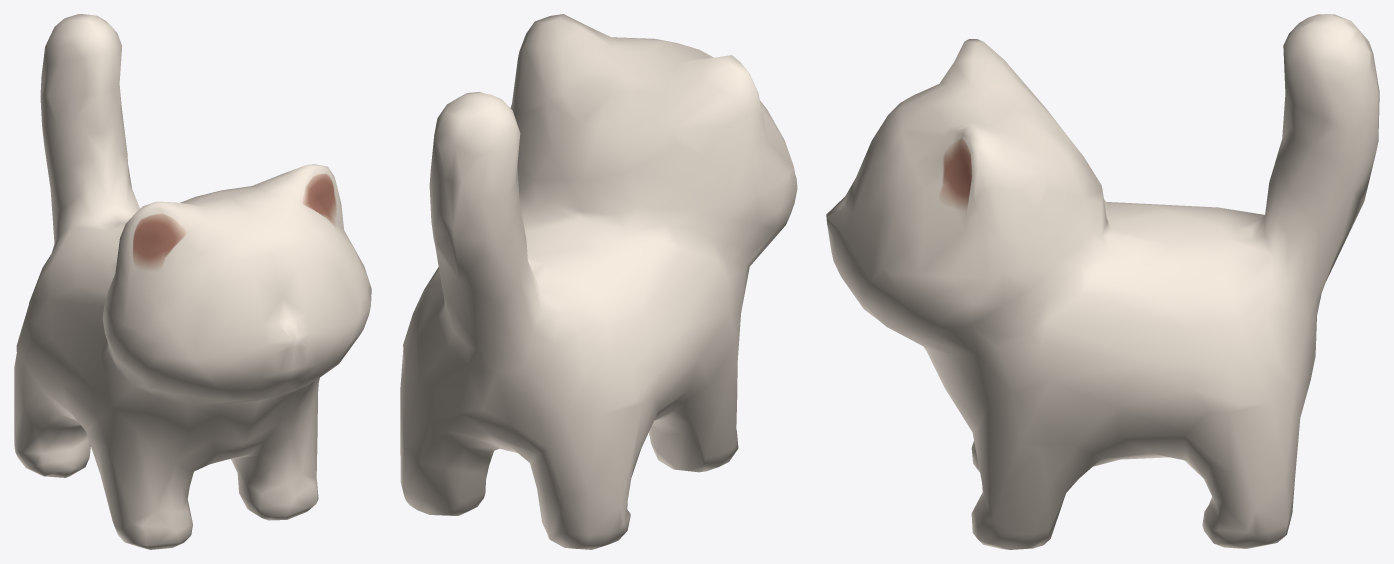
File: newcat.glb
3 views of the same model, side by side, from view 1: azimuth 30°, elevation 25°; view 2: azimuth 150°, elevation 25°; view 3: azimuth 270°, elevation 25° (orthographic). The views are drawn at different scales.
Visible parts, largest first — view 1: newcat; view 2: newcat; view 3: newcat.
Boxes of the visible parts, x1,y1,x2,y2 form: newcat: [14, 14, 371, 549]; newcat: [400, 14, 797, 549]; newcat: [826, 14, 1379, 549].
Bounding box in the file's own units: 0.487 × 0.7742 × 0.8021.
1 material, 1 textured.
